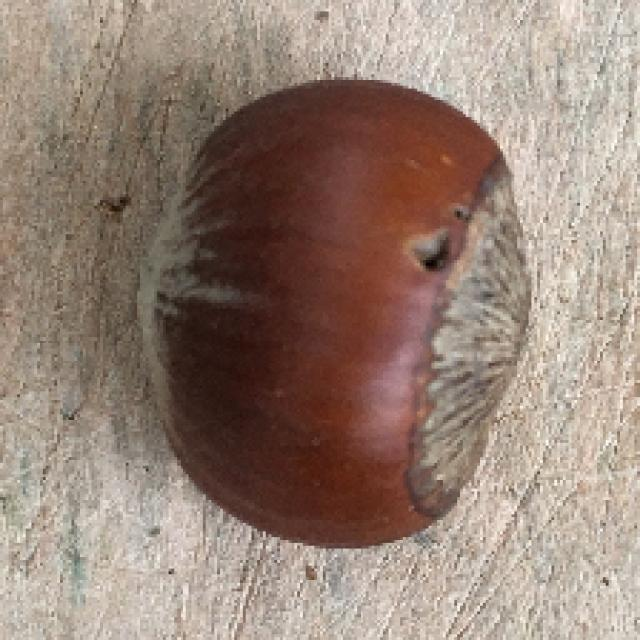damagedHazelnut: (138, 80, 530, 550)
